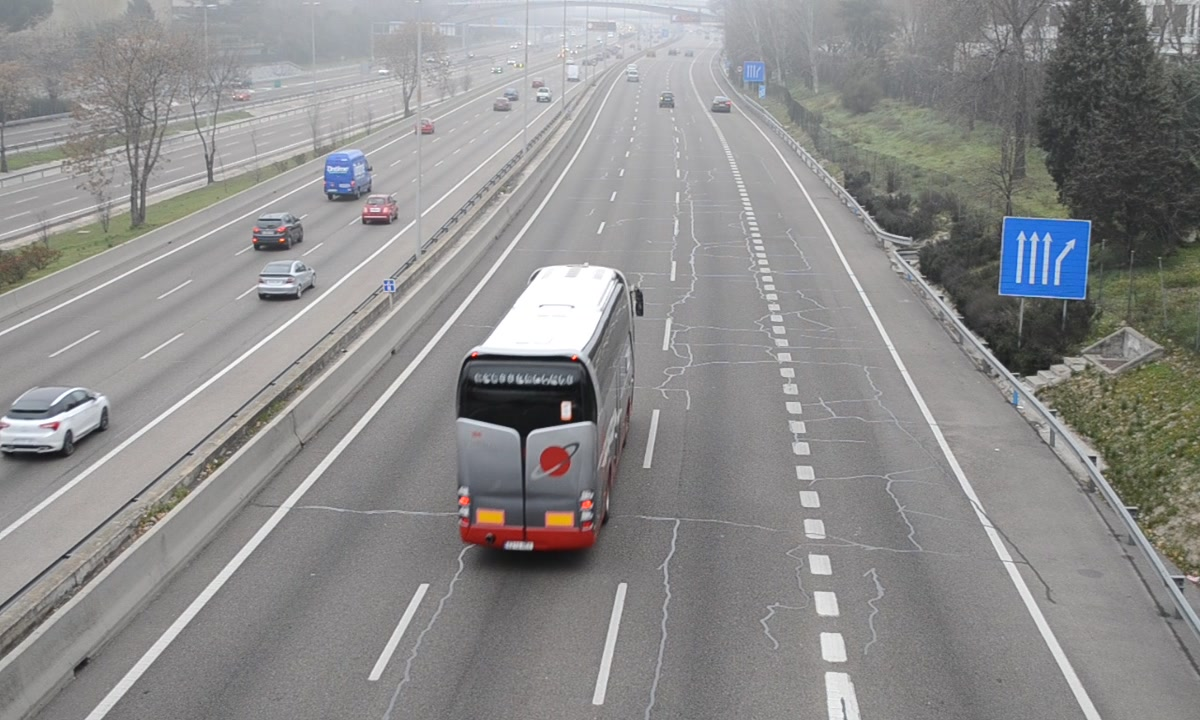bus: (453, 266, 635, 552)
car: (711, 95, 732, 114), (658, 90, 677, 110)
